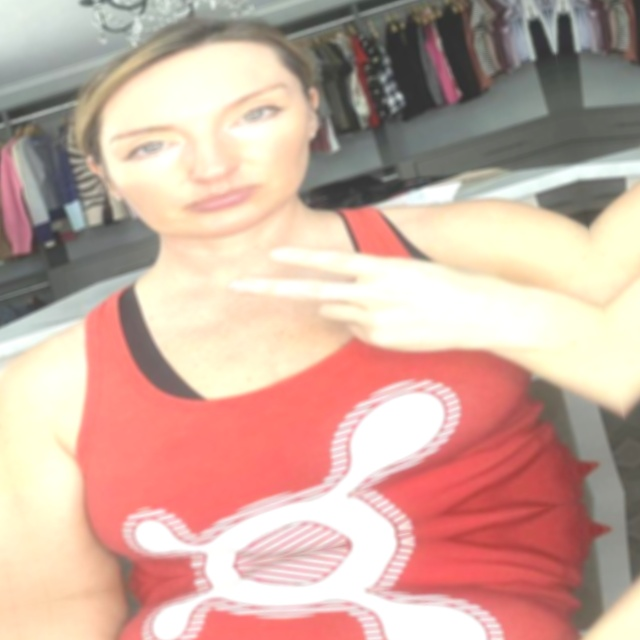Scissors: (213, 179, 521, 414)
